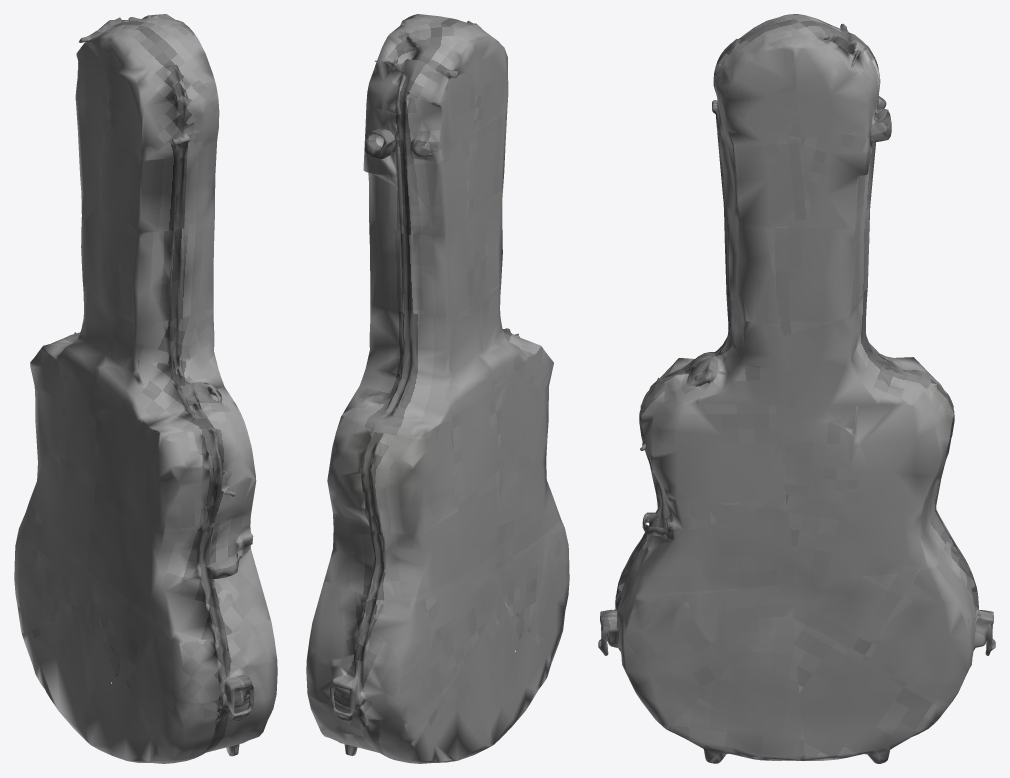
The model's file is l_guitar_case.glb.
The picture shows the model from 3 angles, left to right: view 1: azimuth 30°, elevation 25°; view 2: azimuth 150°, elevation 25°; view 3: azimuth 270°, elevation 25°; orthographic projection.
Parts seen in each view (by area): view 1: tripo_node_cf6266f8-2ccf-4110-bc1b-de3dcd04ec63; view 2: tripo_node_cf6266f8-2ccf-4110-bc1b-de3dcd04ec63; view 3: tripo_node_cf6266f8-2ccf-4110-bc1b-de3dcd04ec63.
Part boxes in pixels (x1,y1,x2,y2): tripo_node_cf6266f8-2ccf-4110-bc1b-de3dcd04ec63: (14,14,277,763); tripo_node_cf6266f8-2ccf-4110-bc1b-de3dcd04ec63: (306,14,569,763); tripo_node_cf6266f8-2ccf-4110-bc1b-de3dcd04ec63: (598,14,995,763).
Size of the model in its own units: 0.1613 by 0.9988 by 0.5006.
1 material, 1 textured.
